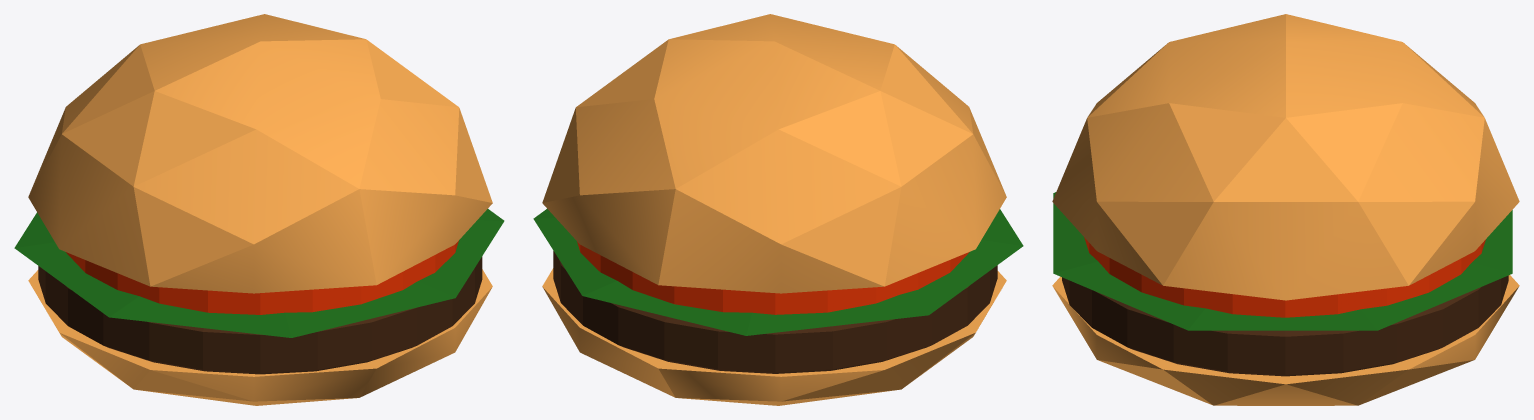
Rendered from Burger 1.obj.
3 views of the same model, side by side, from view 1: azimuth 30°, elevation 25°; view 2: azimuth 150°, elevation 25°; view 3: azimuth 270°, elevation 25° (orthographic).
Parts seen in each view (by area): view 1: Burger_1_ID46; view 2: Burger_1_ID46; view 3: Burger_1_ID46.
Boxes of the visible parts, x1,y1,x2,y2 form: Burger_1_ID46: (14, 14, 504, 405); Burger_1_ID46: (533, 14, 1023, 405); Burger_1_ID46: (1052, 14, 1519, 405).
Bounding box in the file's own units: 0.9025 × 0.6902 × 0.9025.
